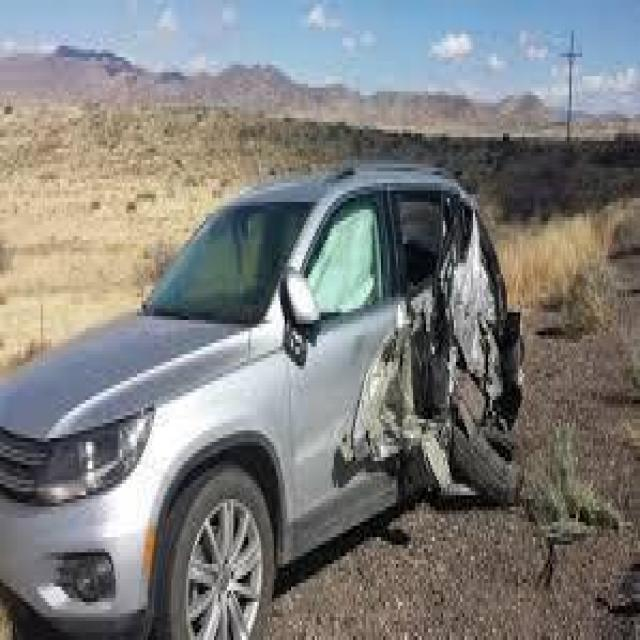damaged: (338, 187, 531, 510)
